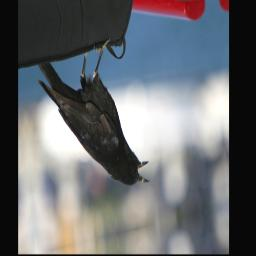Crow: (35, 27, 152, 211)
